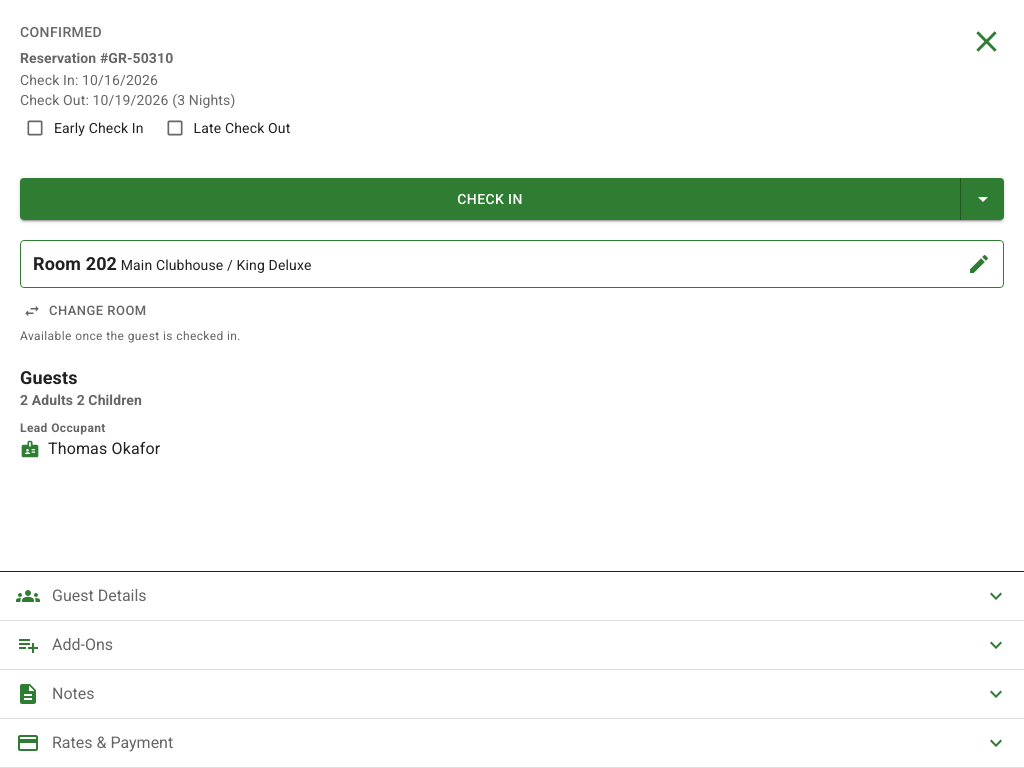
Test: check in on the arrival date › opens the check in panel with no prior-date notice, then completes and names the room
Click the button "Check In".
click(491, 199)  # box [20,178,961,220]
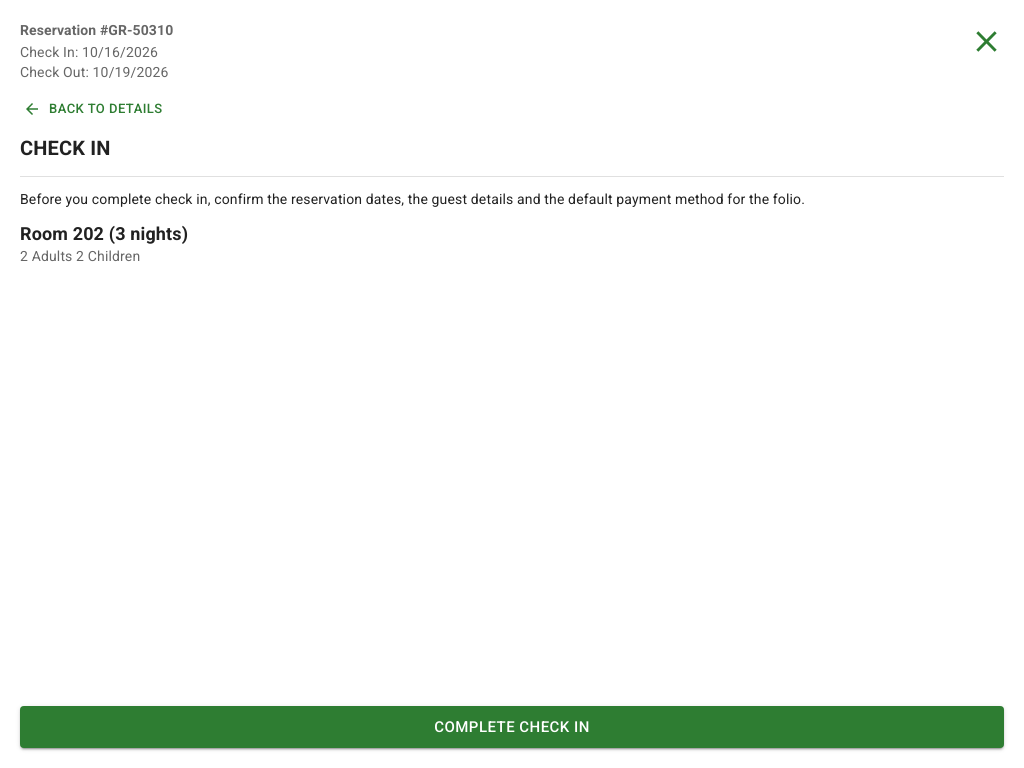
Click the button "Complete check in".
click(512, 727)  # box [20,706,1004,748]
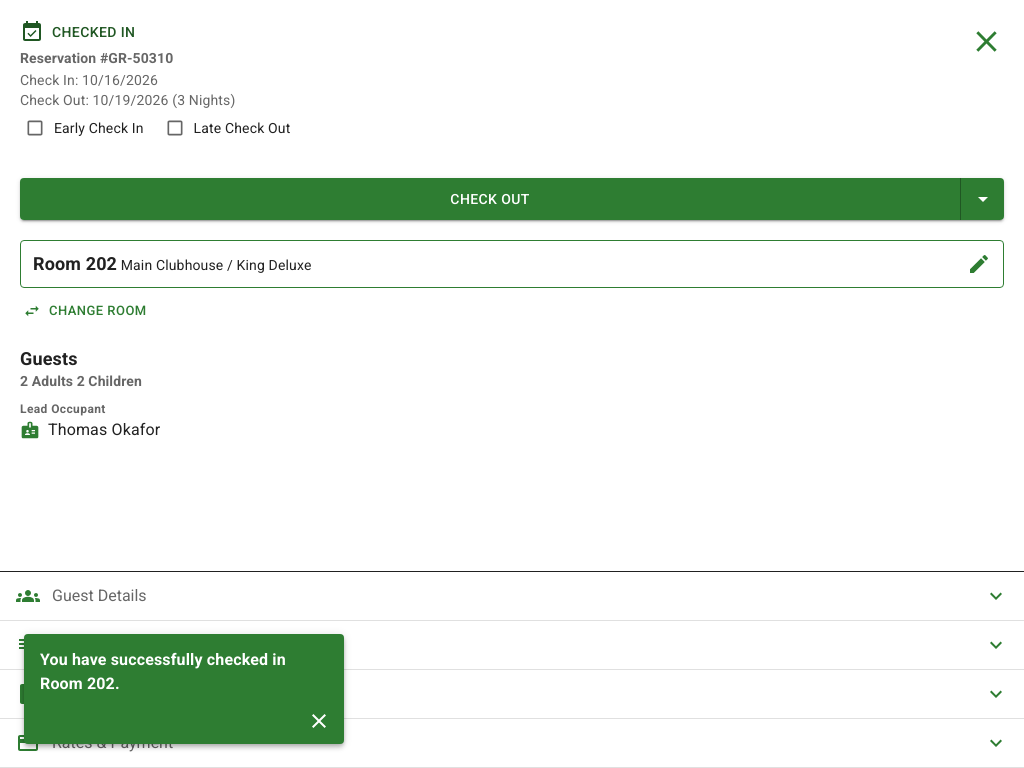
Expected: the button "Checked In" is shown, [20,20,135,44]
